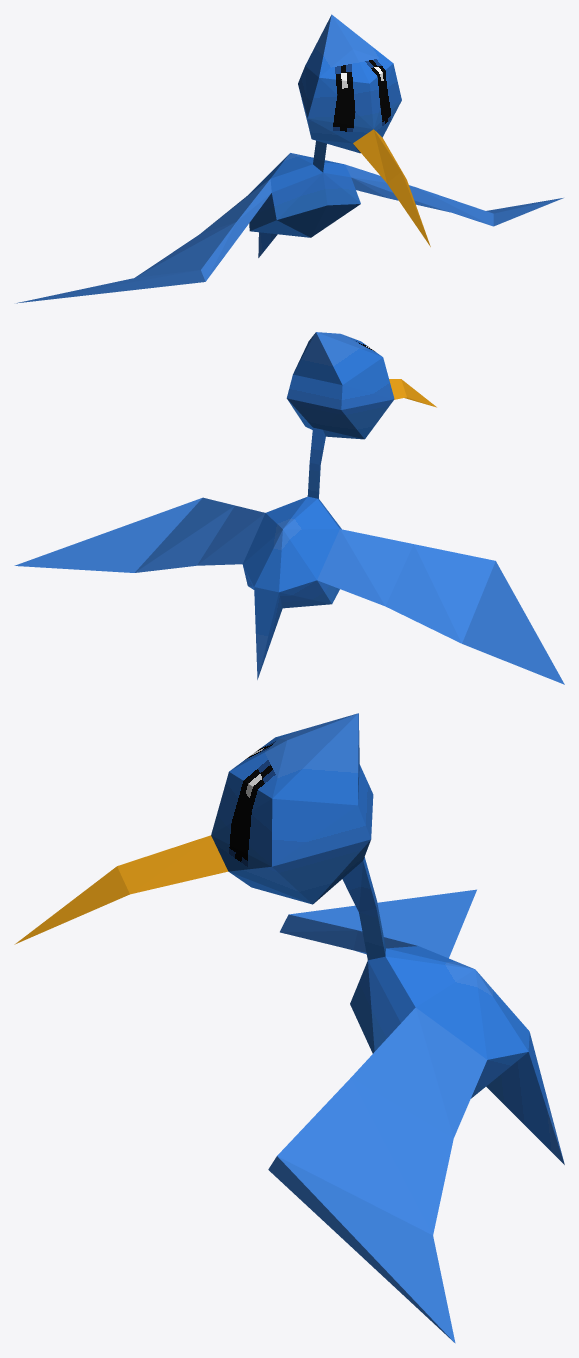
The model's file is Pommy.obj.
3 views of the same model, one above another, from view 1: azimuth 30°, elevation 25°; view 2: azimuth 150°, elevation 25°; view 3: azimuth 270°, elevation 25° (orthographic). The views are drawn at different scales.
Parts seen in each view (by area): view 1: ShapeIndexedFaceS, ShapeIndexedFaceS.001; view 2: ShapeIndexedFaceS.001, ShapeIndexedFaceS; view 3: ShapeIndexedFaceS.001, ShapeIndexedFaceS.
Boxes of the visible parts, left/top/right/bottom form: ShapeIndexedFaceS: left=248, top=14, right=401, bottom=257; ShapeIndexedFaceS.001: left=16, top=129, right=563, bottom=303; ShapeIndexedFaceS.001: left=14, top=379, right=564, bottom=684; ShapeIndexedFaceS: left=242, top=332, right=394, bottom=679; ShapeIndexedFaceS.001: left=14, top=835, right=486, bottom=1343; ShapeIndexedFaceS: left=211, top=713, right=564, bottom=1164.
Bounding box in the file's own units: 5.14 × 2.62 × 2.85.
Materials: 2 (2 with a texture image).
